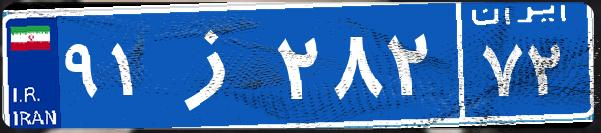1: (110, 28, 158, 105)
2: (385, 28, 445, 110), (273, 28, 330, 110), (525, 38, 570, 115)
7: (475, 38, 525, 113)
8: (330, 28, 385, 110)
9: (57, 26, 110, 107)
ز: (158, 15, 273, 115)
